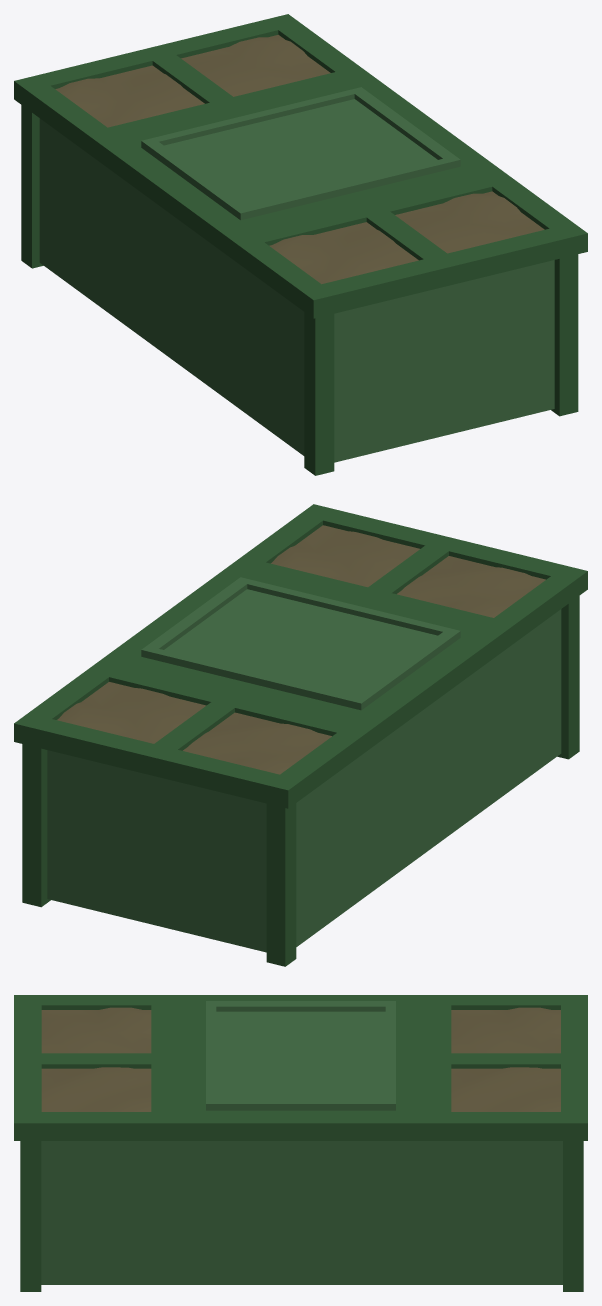
Rendered from fertilizer.fbx.
3 views of the same model, one above another, from view 1: azimuth 30°, elevation 25°; view 2: azimuth 150°, elevation 25°; view 3: azimuth 270°, elevation 25° (orthographic). The views are drawn at different scales.
Visible parts, largest first — view 1: pCube8; view 2: pCube8; view 3: pCube8.
Boxes of the visible parts, <box> form: pCube8: <box>14,14,587,475</box>; pCube8: <box>14,504,587,966</box>; pCube8: <box>14,995,587,1291</box>.
Size of the model in its own units: 29.52 by 19.14 by 55.86.
